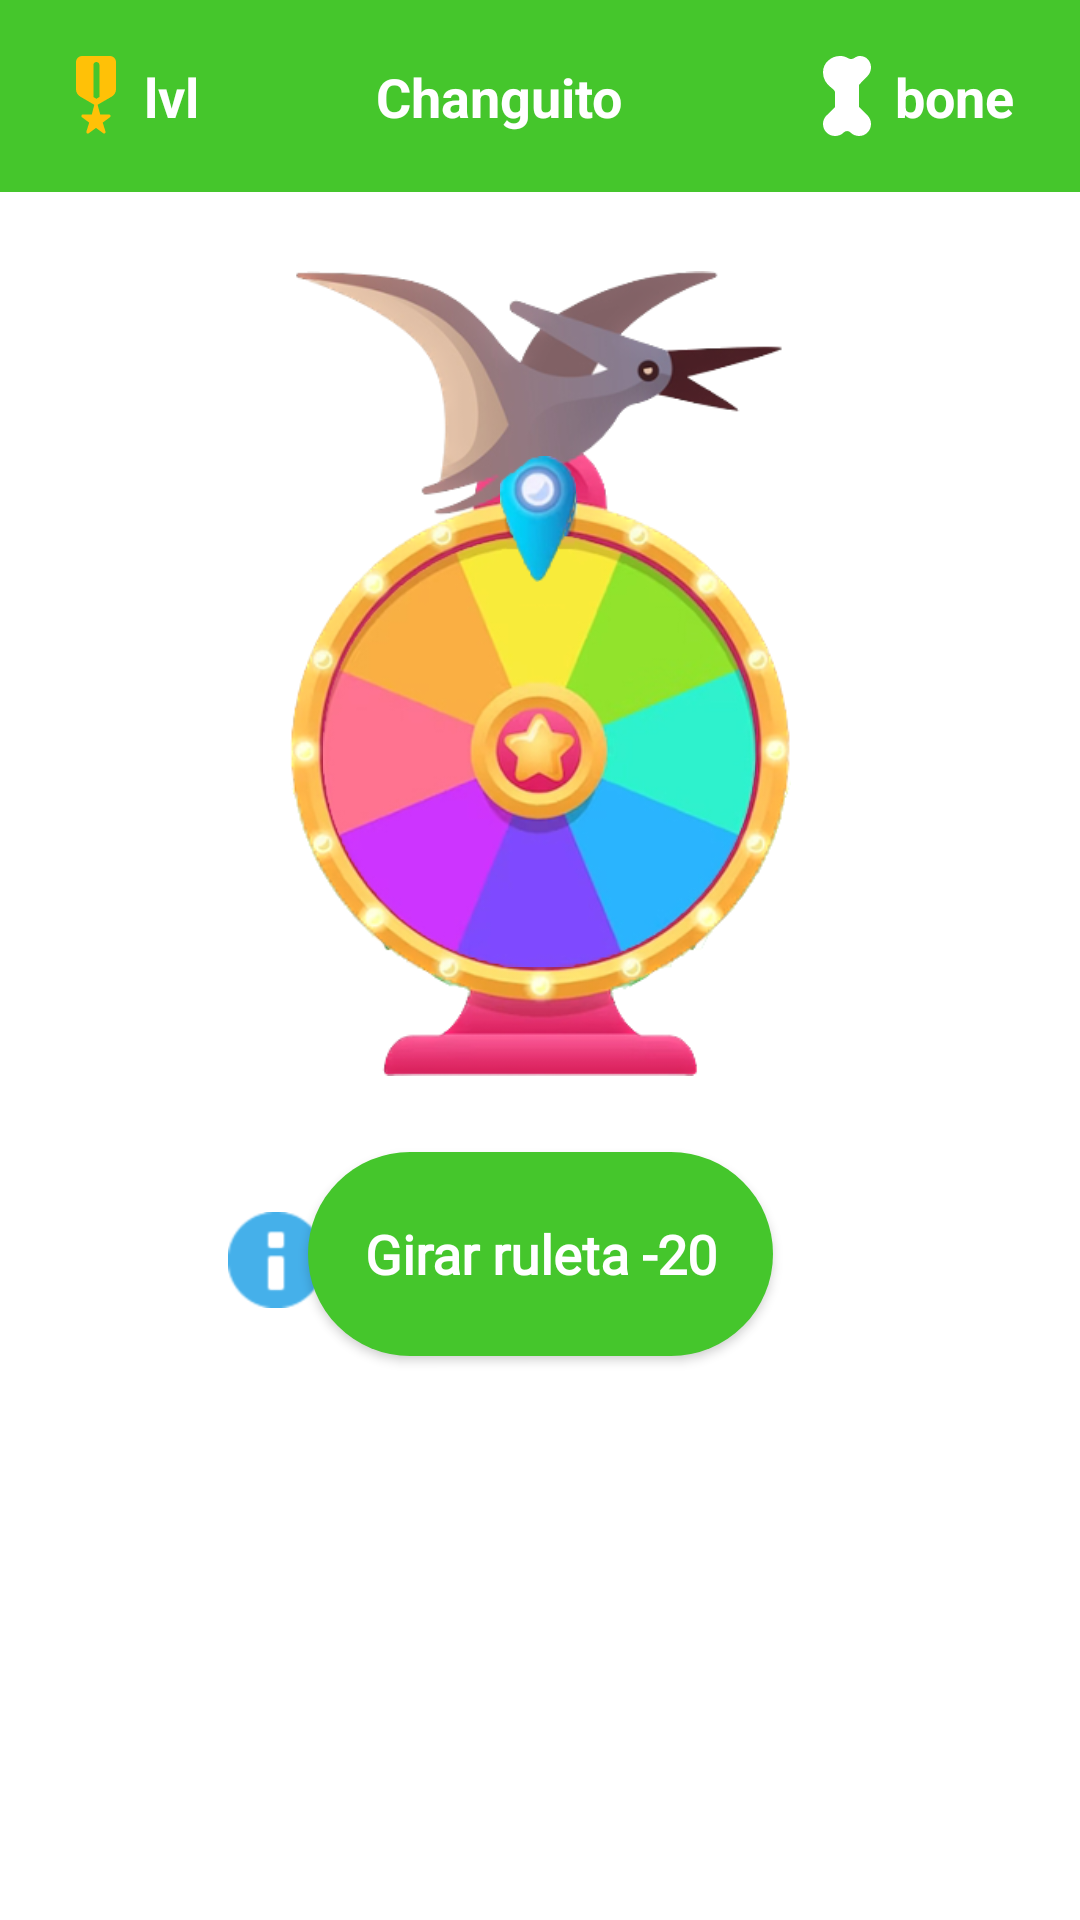

Icon bounding boxes for this 1080 × 1920 phone screenshot, format (x1,y1,x2,y2):
info: (228,1212,324,1308)
medal: (76,56,116,134)
